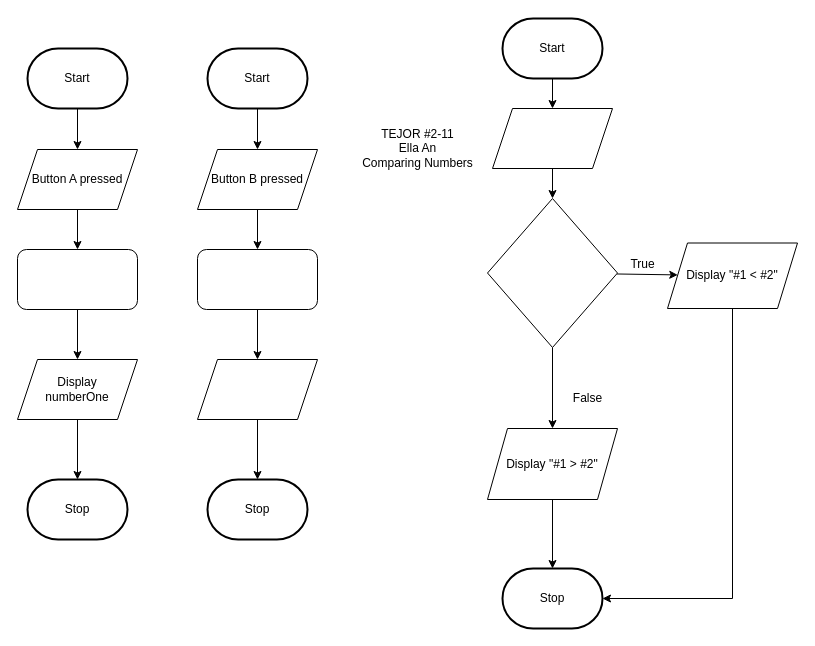
Some shapes in this 815 by 646 pixel diagram are drawn without their labels. The shapes that lost their labels are listed below. From the top down, each one's centre as x and y in pixels, then its label:
At (552,138): "Shake Microbit".
At (77,279): "numberOne = randint(0,99)".
At (257,279): "numberTwo = randint(0,99)".
At (552,273): "If numberOne < numberTwo".
At (257,389): "Display numberTwo".
